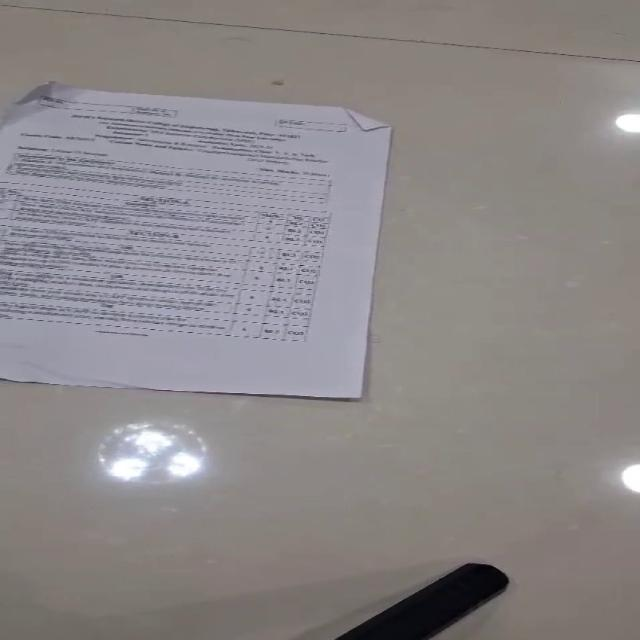paper: (0, 80, 392, 399)
